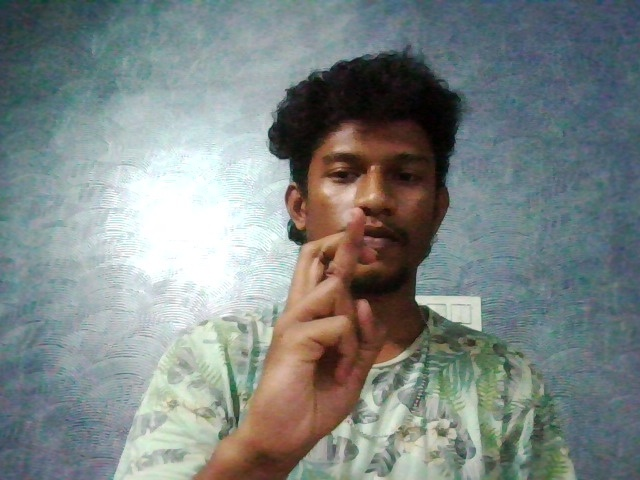hope: (231, 213, 397, 463)
